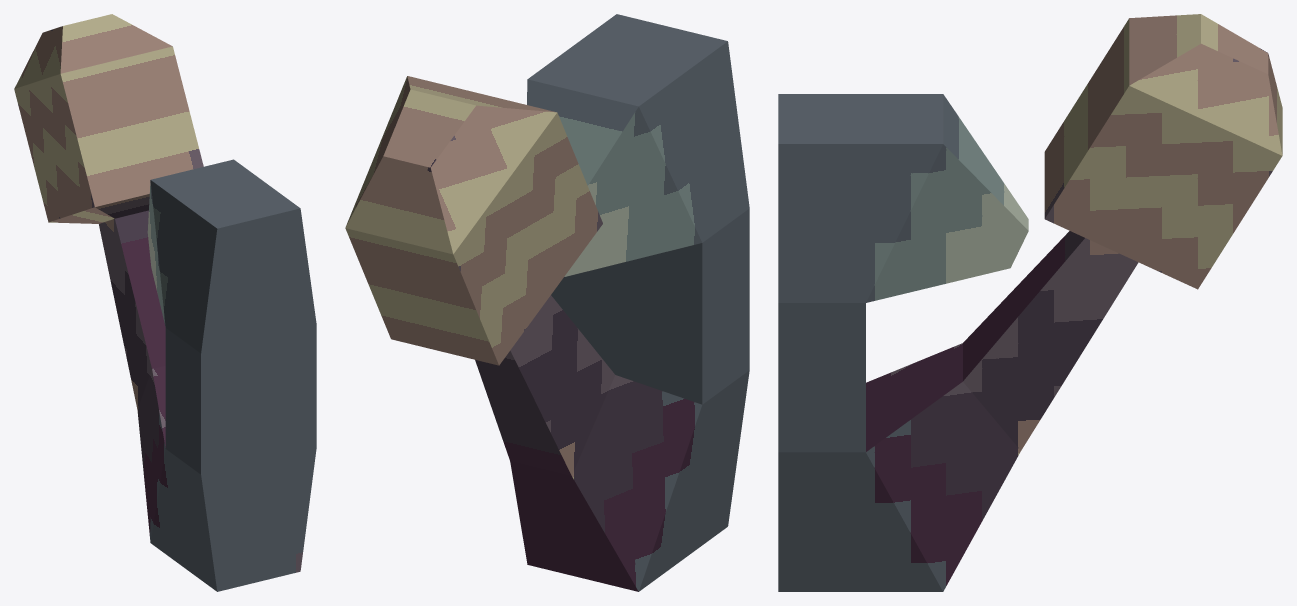
The model's file is torch2.glb.
3 renders of one model, left to right at view 1: azimuth 30°, elevation 25°; view 2: azimuth 150°, elevation 25°; view 3: azimuth 270°, elevation 25°, orthographic. The views are drawn at different scales.
Parts seen in each view (by area): view 1: Cube.002; view 2: Cube.002; view 3: Cube.002.
Boxes of the visible parts, x1,y1,x2,y2 form: Cube.002: [14, 14, 316, 591]; Cube.002: [345, 14, 749, 591]; Cube.002: [778, 14, 1282, 591].
Bounding box in the file's own units: 0.6336 × 2.28 × 1.94.
1 material, 1 textured.
